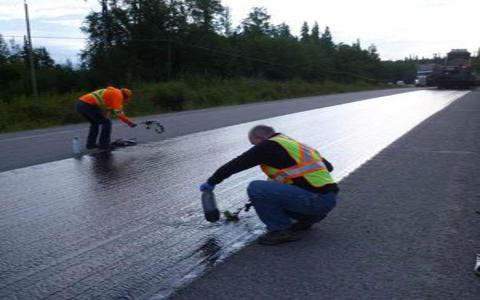Proper road: (18, 177, 170, 281), (394, 138, 471, 297)
